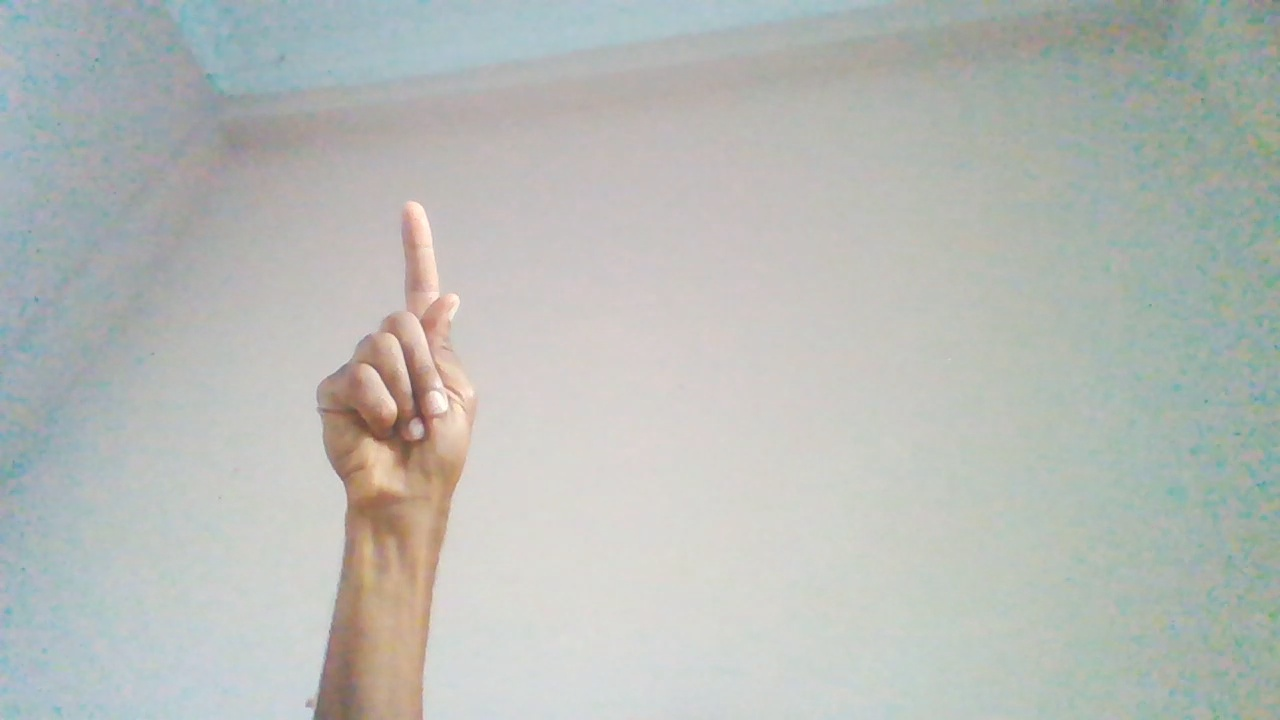ne: (317, 204, 477, 539)
